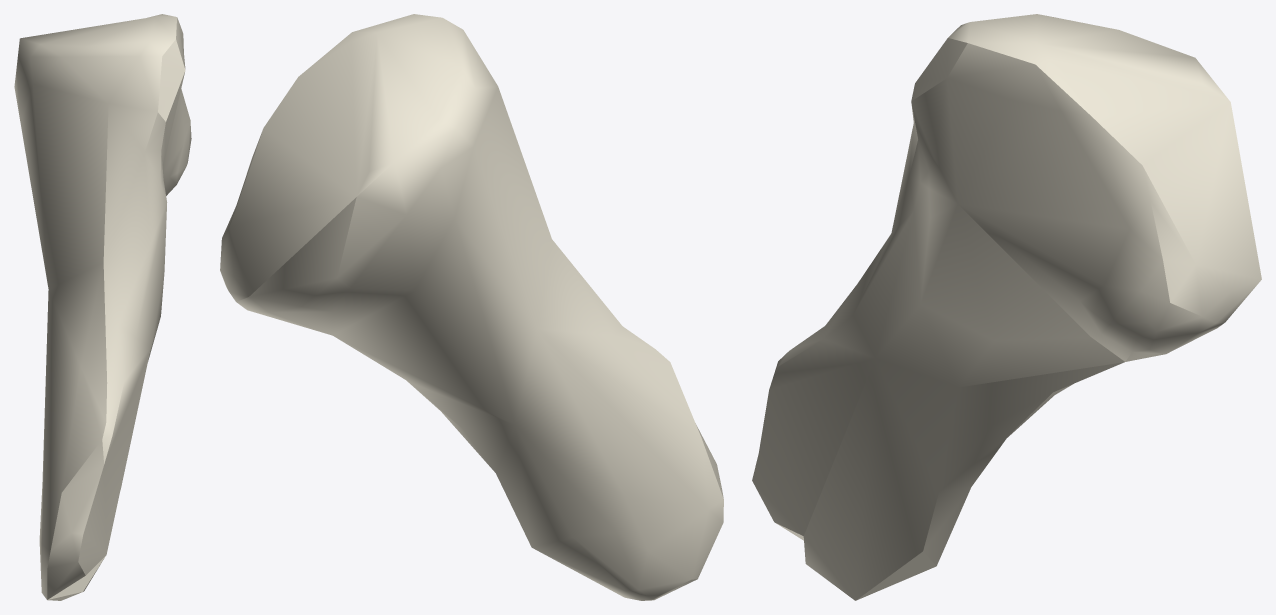
The model's file is fma24459_fj6308.glb.
3 renders of one model, left to right at view 1: azimuth 30°, elevation 25°; view 2: azimuth 150°, elevation 25°; view 3: azimuth 270°, elevation 25°, orthographic. The views are drawn at different scales.
Parts seen in each view (by area): view 1: FMA24459_FJ6308; view 2: FMA24459_FJ6308; view 3: FMA24459_FJ6308.
Part boxes in pixels (left/top/right/bottom): FMA24459_FJ6308: left=14, top=14, right=191, bottom=600; FMA24459_FJ6308: left=220, top=14, right=723, bottom=600; FMA24459_FJ6308: left=752, top=14, right=1261, bottom=600.
Size of the model in its own units: 0.0137 by 0.0229 by 0.0162.
